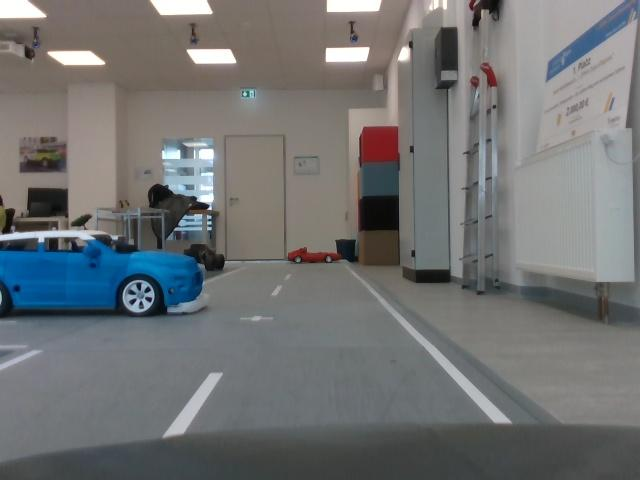car: (2, 232, 209, 323), (180, 240, 235, 275), (289, 245, 343, 266)
